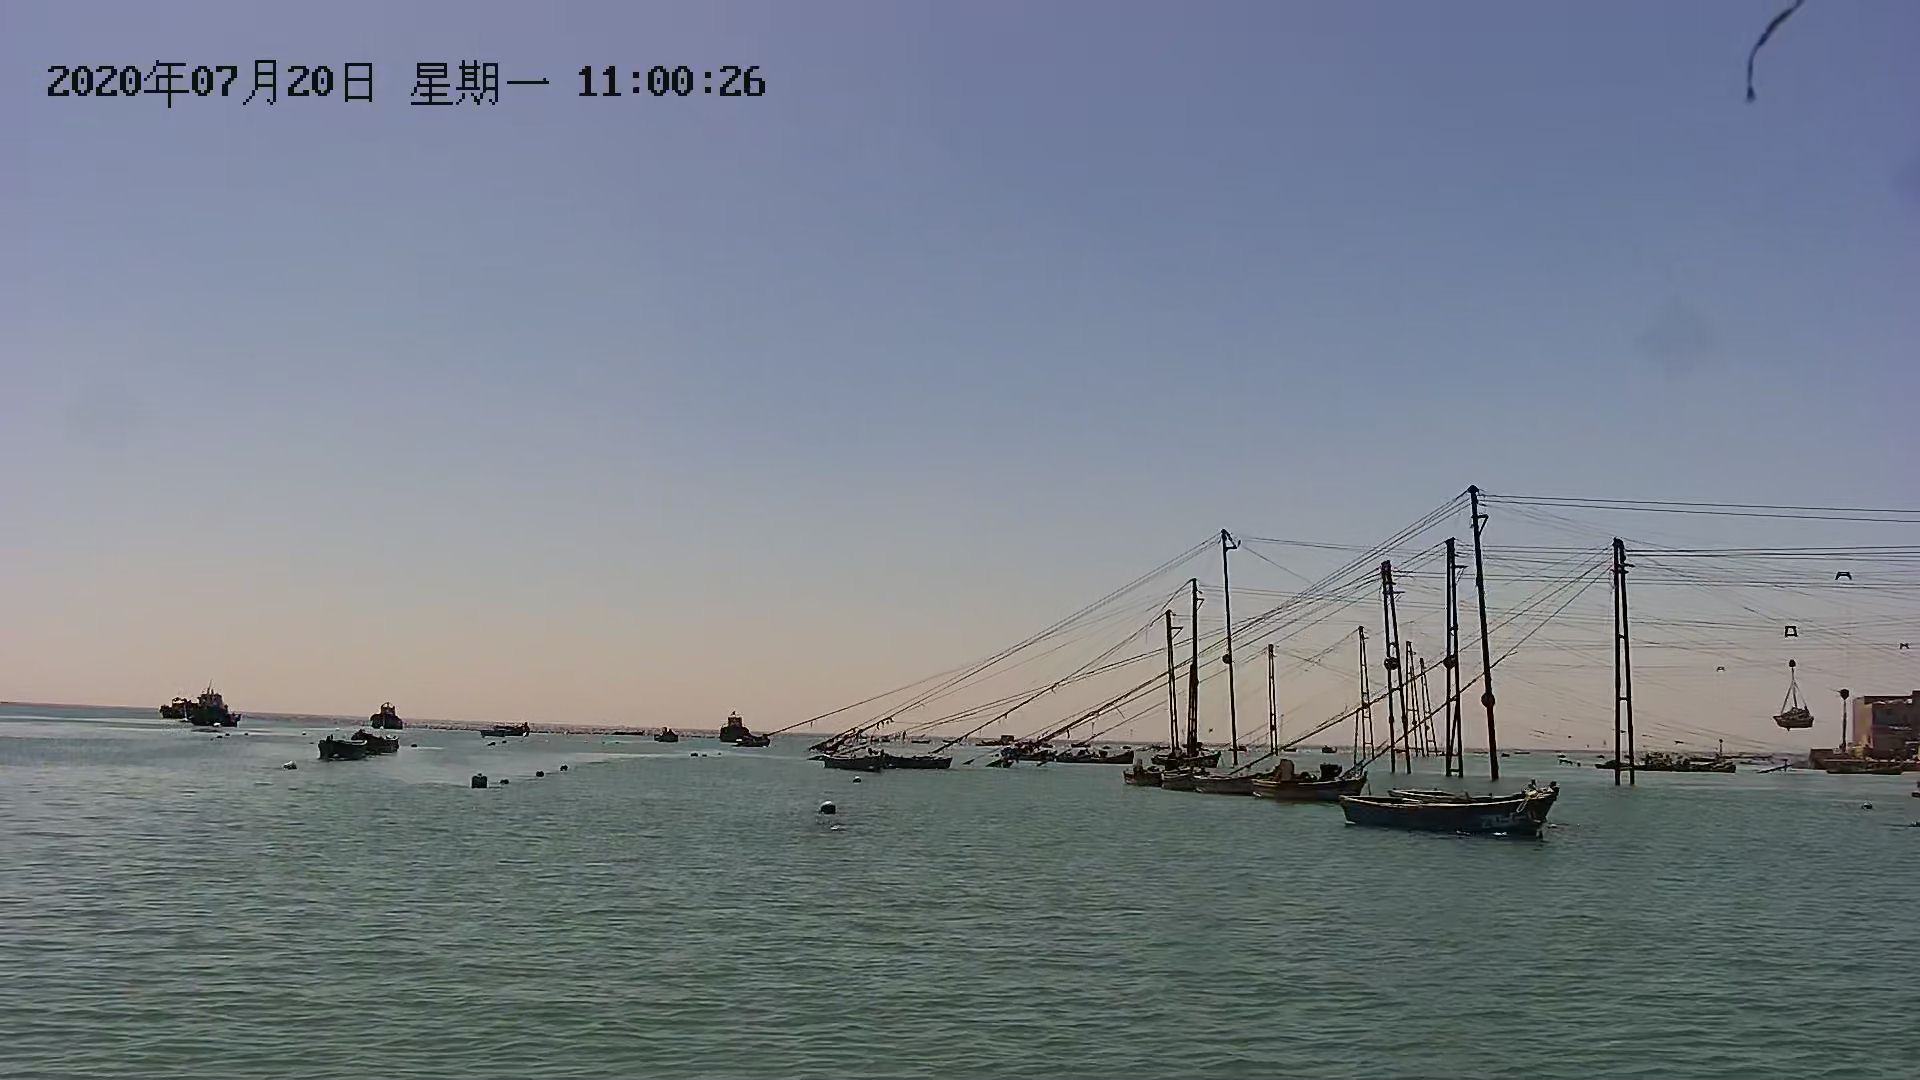ball: (812, 798, 840, 818)
boat: (1342, 787, 1559, 844), (1253, 773, 1371, 803), (819, 749, 887, 778), (319, 731, 369, 764), (1193, 773, 1262, 796), (886, 750, 949, 774)
mast: (1468, 485, 1507, 787), (1374, 554, 1416, 779), (1218, 529, 1254, 767), (1606, 541, 1638, 791), (1439, 534, 1466, 781), (1354, 612, 1379, 773), (1185, 580, 1203, 765), (1162, 608, 1182, 760)
rubbish: (462, 771, 496, 794)
ship: (177, 687, 240, 731), (713, 711, 752, 748), (368, 702, 409, 731)
